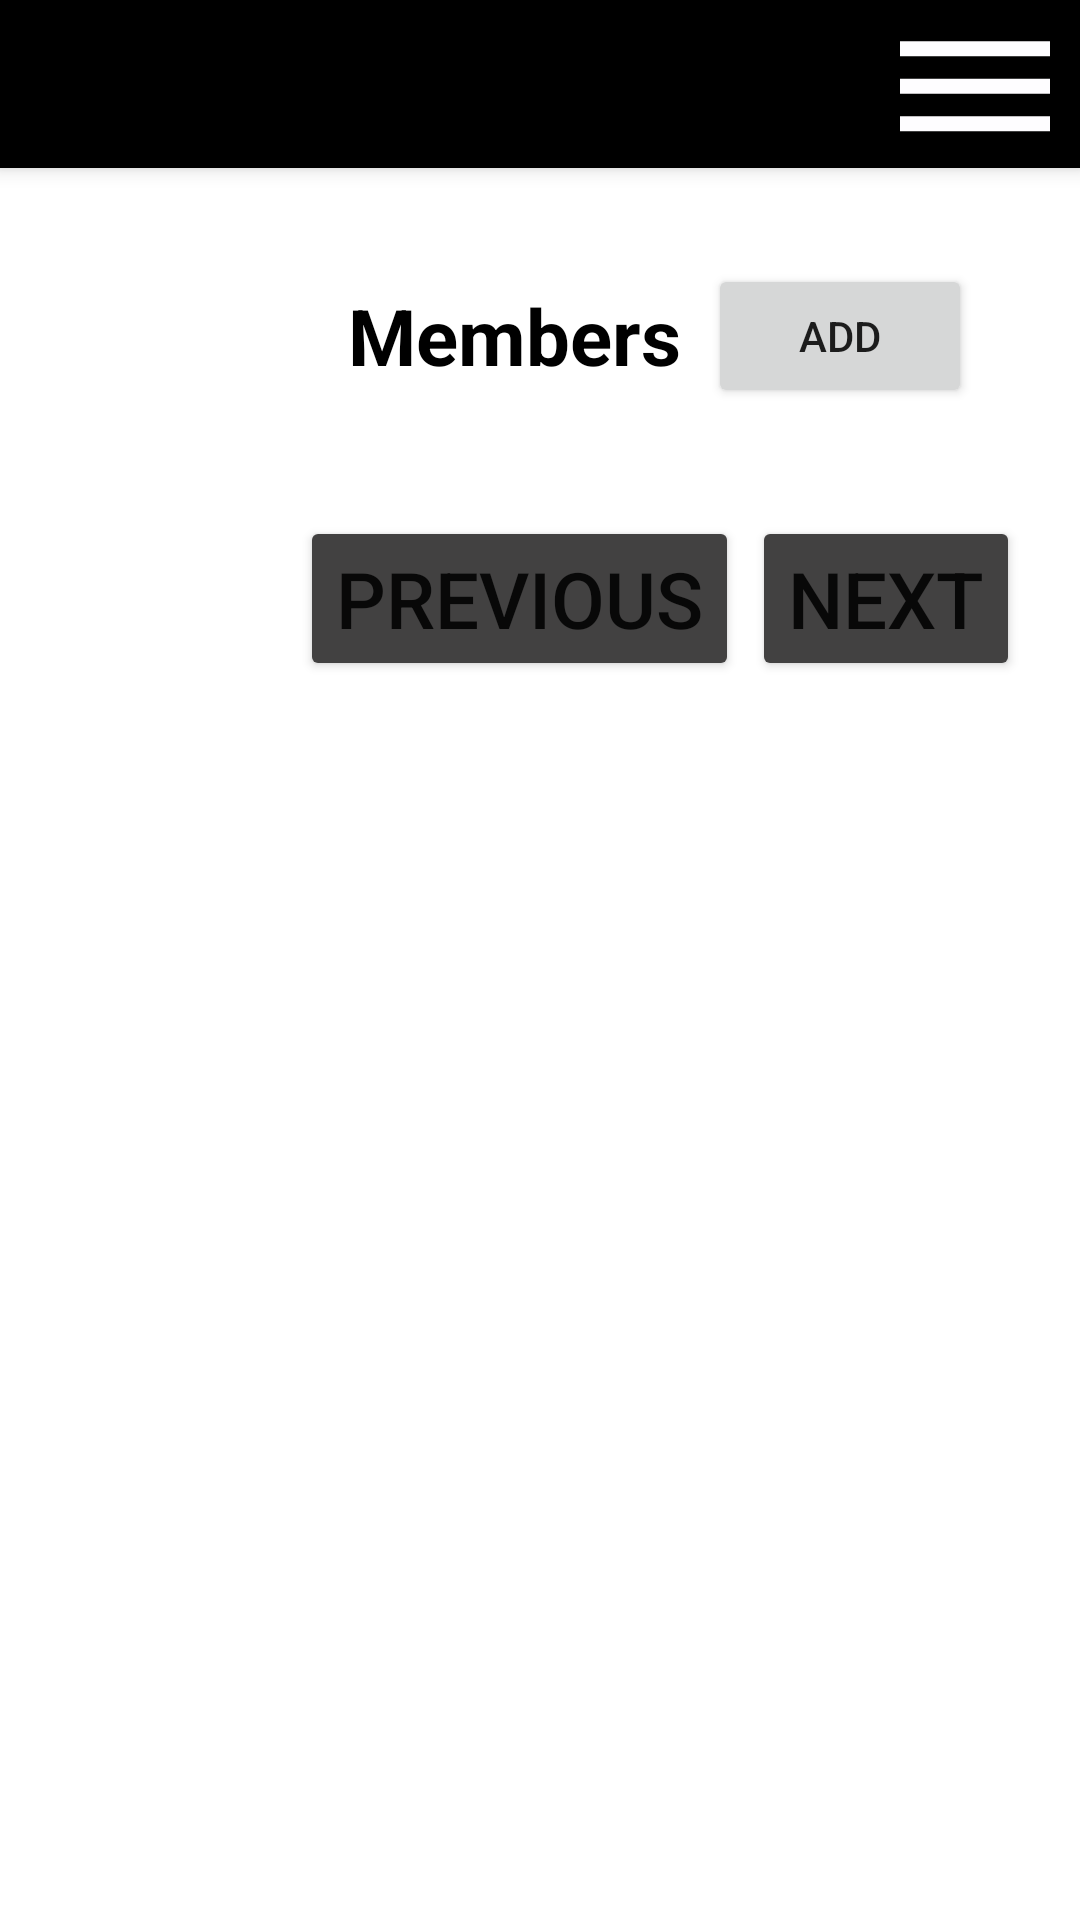

Screen size 1080px×1920px. Icon name, then its box in pixels as (x1,y1,x2,y2):
dehaze: (900,41,1050,132)
